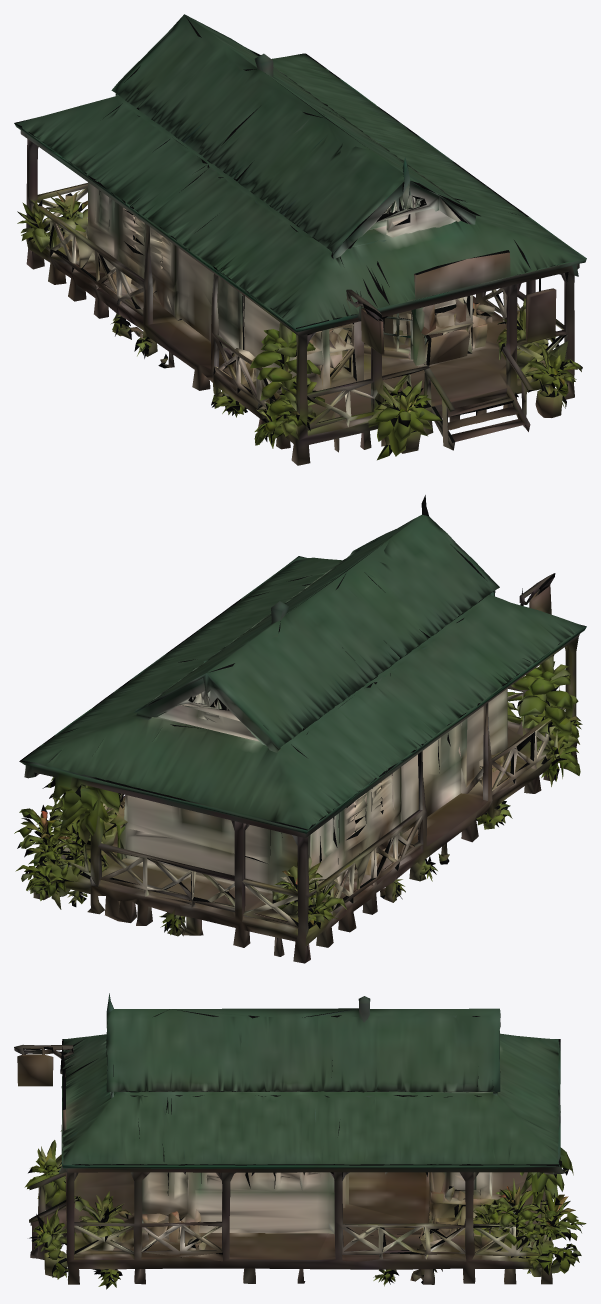
The model's file is kuranda-shop.glb.
3 renders of one model, top to bottom at view 1: azimuth 30°, elevation 25°; view 2: azimuth 150°, elevation 25°; view 3: azimuth 270°, elevation 25°, orthographic. The views are drawn at different scales.
Visible parts, largest first — view 1: Model; view 2: Model; view 3: Model.
Boxes of the visible parts, <box> form: Model: <box>14,14,586,465</box>; Model: <box>14,495,586,963</box>; Model: <box>14,993,586,1289</box>.
Size of the model in its own units: 1.06 by 0.8568 by 1.89.
Materials: 1 (1 with a texture image).
